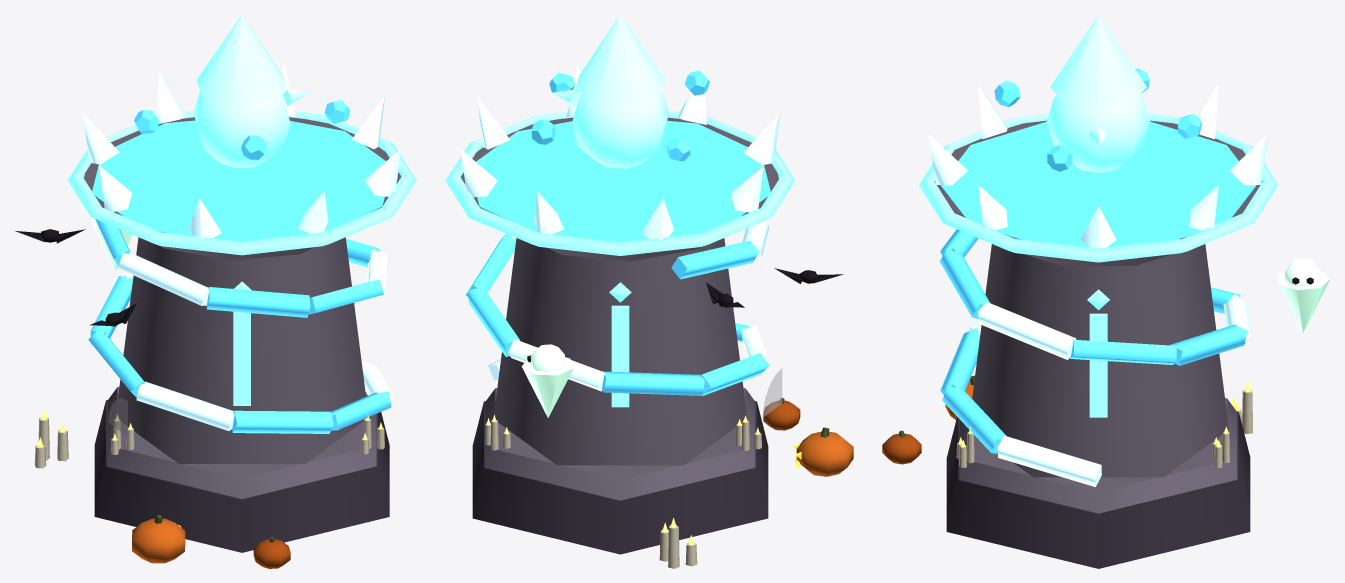
Rendered from tower_element_elementTide.glb.
3 views of the same model, side by side, from view 1: azimuth 30°, elevation 25°; view 2: azimuth 150°, elevation 25°; view 3: azimuth 270°, elevation 25° (orthographic). The views are drawn at different scales.
Visible parts, largest first — view 1: pillar, basin_water, base, base_top, basin_rim, crystal, crystal_tip, tide_spiral_11, tide_spiral_2, tide_spiral_3, deco_hw_jack_body, tide_spiral_12 (+22 smaller); view 2: pillar, basin_water, base, base_top, basin_rim, crystal, crystal_tip, tide_spiral_5, deco_hw_jack_body, tide_spiral_13, basin, rune_1 (+20 smaller); view 3: pillar, basin_water, base, base_top, basin_rim, crystal, crystal_tip, tide_spiral_0, tide_spiral_9, tide_spiral_8, basin, tide_spiral_1 (+17 smaller).
Boxes of the visible parts, x1,y1,x2,y2 form: pillar: (115,237,365,463); basin_water: (92,120,385,241); base: (94,400,389,552); base_top: (107,387,376,498); basin_rim: (67,110,416,255); crystal: (193,92,290,168); crystal_tip: (196,14,287,104); tide_spiral_11: (206,287,310,317); tide_spiral_2: (232,410,333,433); tide_spiral_3: (136,381,234,430); deco_hw_jack_body: (132,518,185,563); tide_spiral_12: (118,252,208,305); pillar: (494,238,747,465); basin_water: (476,120,770,242); base: (472,401,768,554); base_top: (485,388,755,500); basin_rim: (445,111,795,255); crystal: (571,92,668,168); crystal_tip: (575,14,665,104); tide_spiral_5: (602,371,704,395); deco_hw_jack_body: (796,431,853,476); tide_spiral_13: (671,240,759,279); basin: (460,117,778,261); rune_1: (611,305,629,407); pillar: (968,244,1228,477); basin_water: (940,121,1256,247); base: (946,411,1250,568); base_top: (960,398,1237,513); basin_rim: (919,113,1278,262); crystal: (1047,95,1150,172); crystal_tip: (1050,14,1146,107); tide_spiral_0: (997,435,1101,486); tide_spiral_9: (978,302,1076,359); tide_spiral_8: (1070,339,1176,364); basin: (934,120,1262,265); tide_spiral_1: (942,386,1006,453).
Bounding box in the file's own units: 0.4485 × 0.59 × 0.4983.
